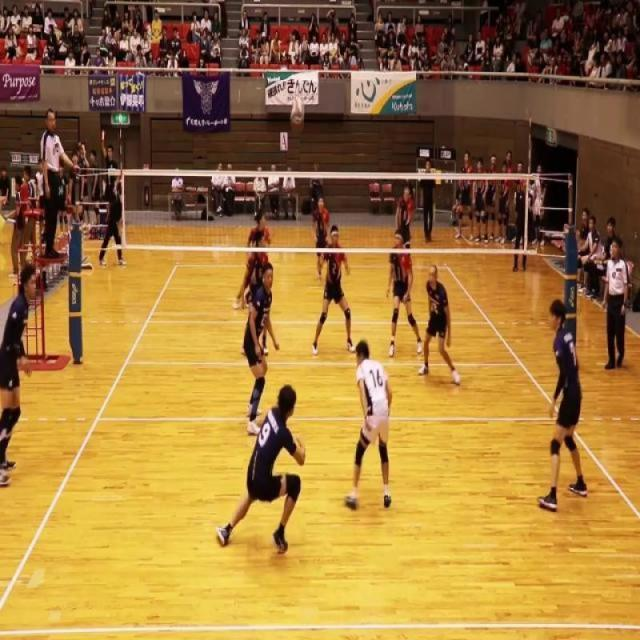volleyball: (290, 95, 305, 132)
